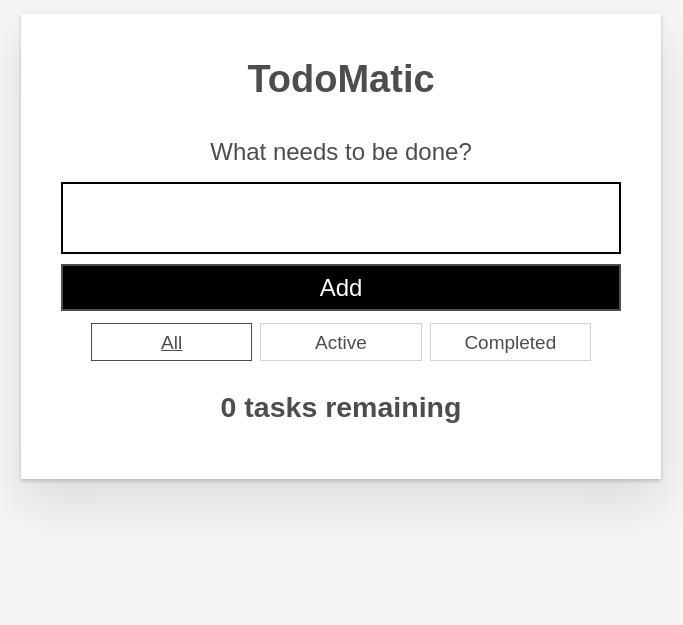
Test: Simple App.tsx tests › deleteTodo
This screenshot has width=683, height=625.
Type "Hello world" into the field with test id "new-todo-input".
click(341, 218); type("Hello world")  # box [61,182,621,254]
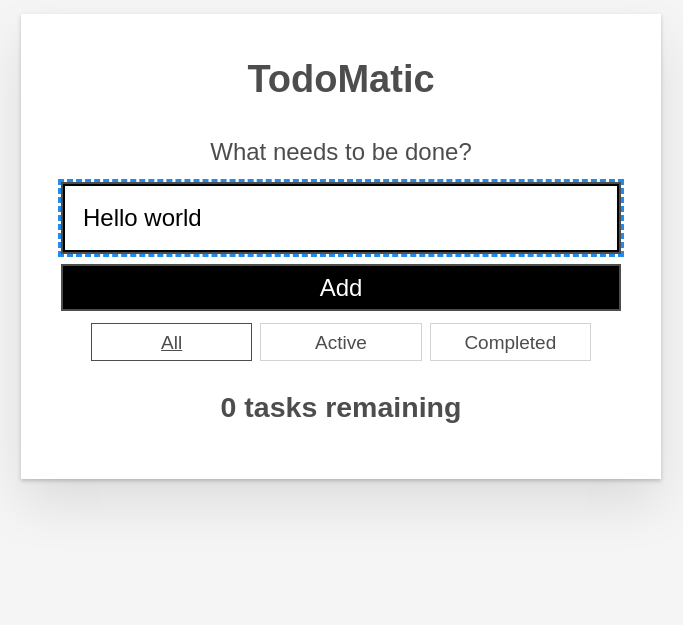
Click the button with test id "new-todo-button".
click(341, 287)  # box [61,264,621,311]
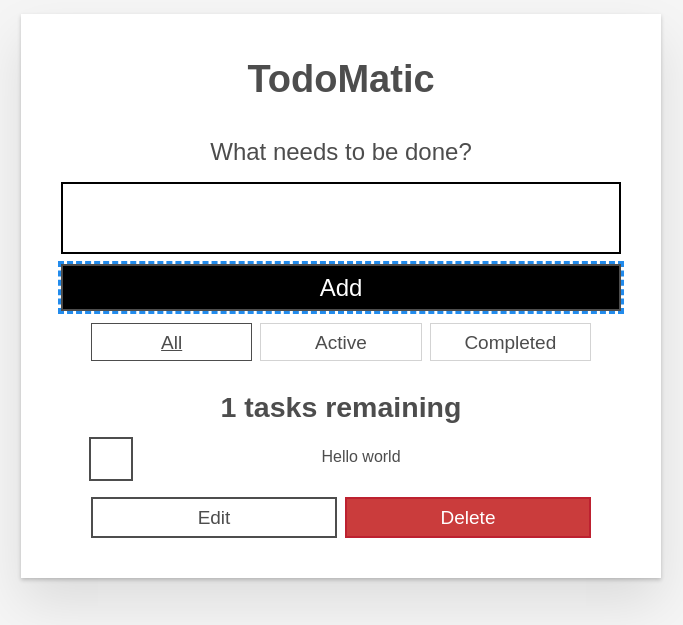
Click the button with test id "delete-todo-1".
click(468, 517)  # box [345,497,591,538]
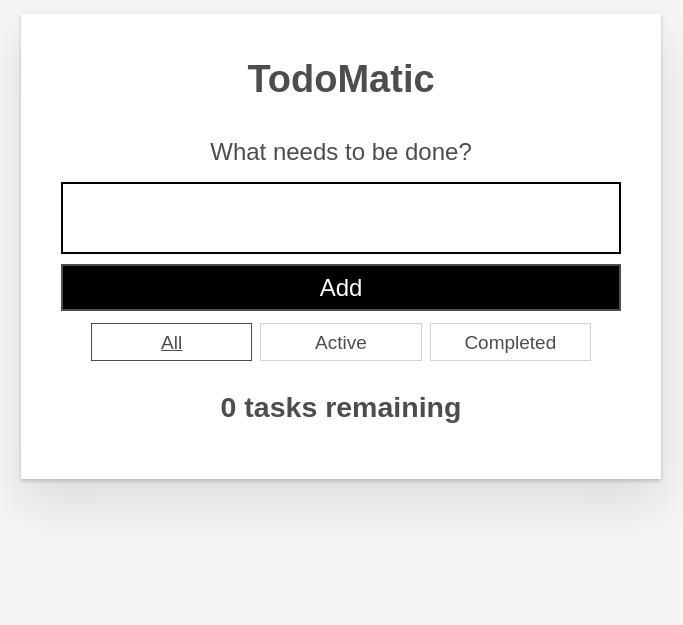
Expected: the checkbox with test id "todo-1" is gone
